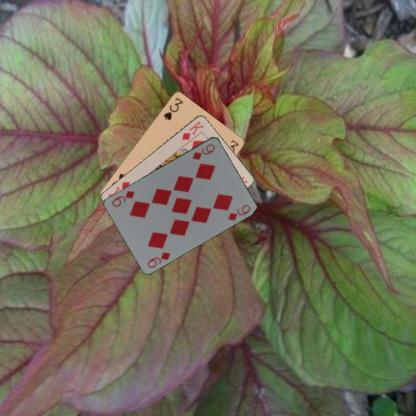3s: (161, 95, 184, 121)
9d: (144, 249, 172, 269), (190, 141, 216, 161)
Kd: (180, 118, 204, 141)
